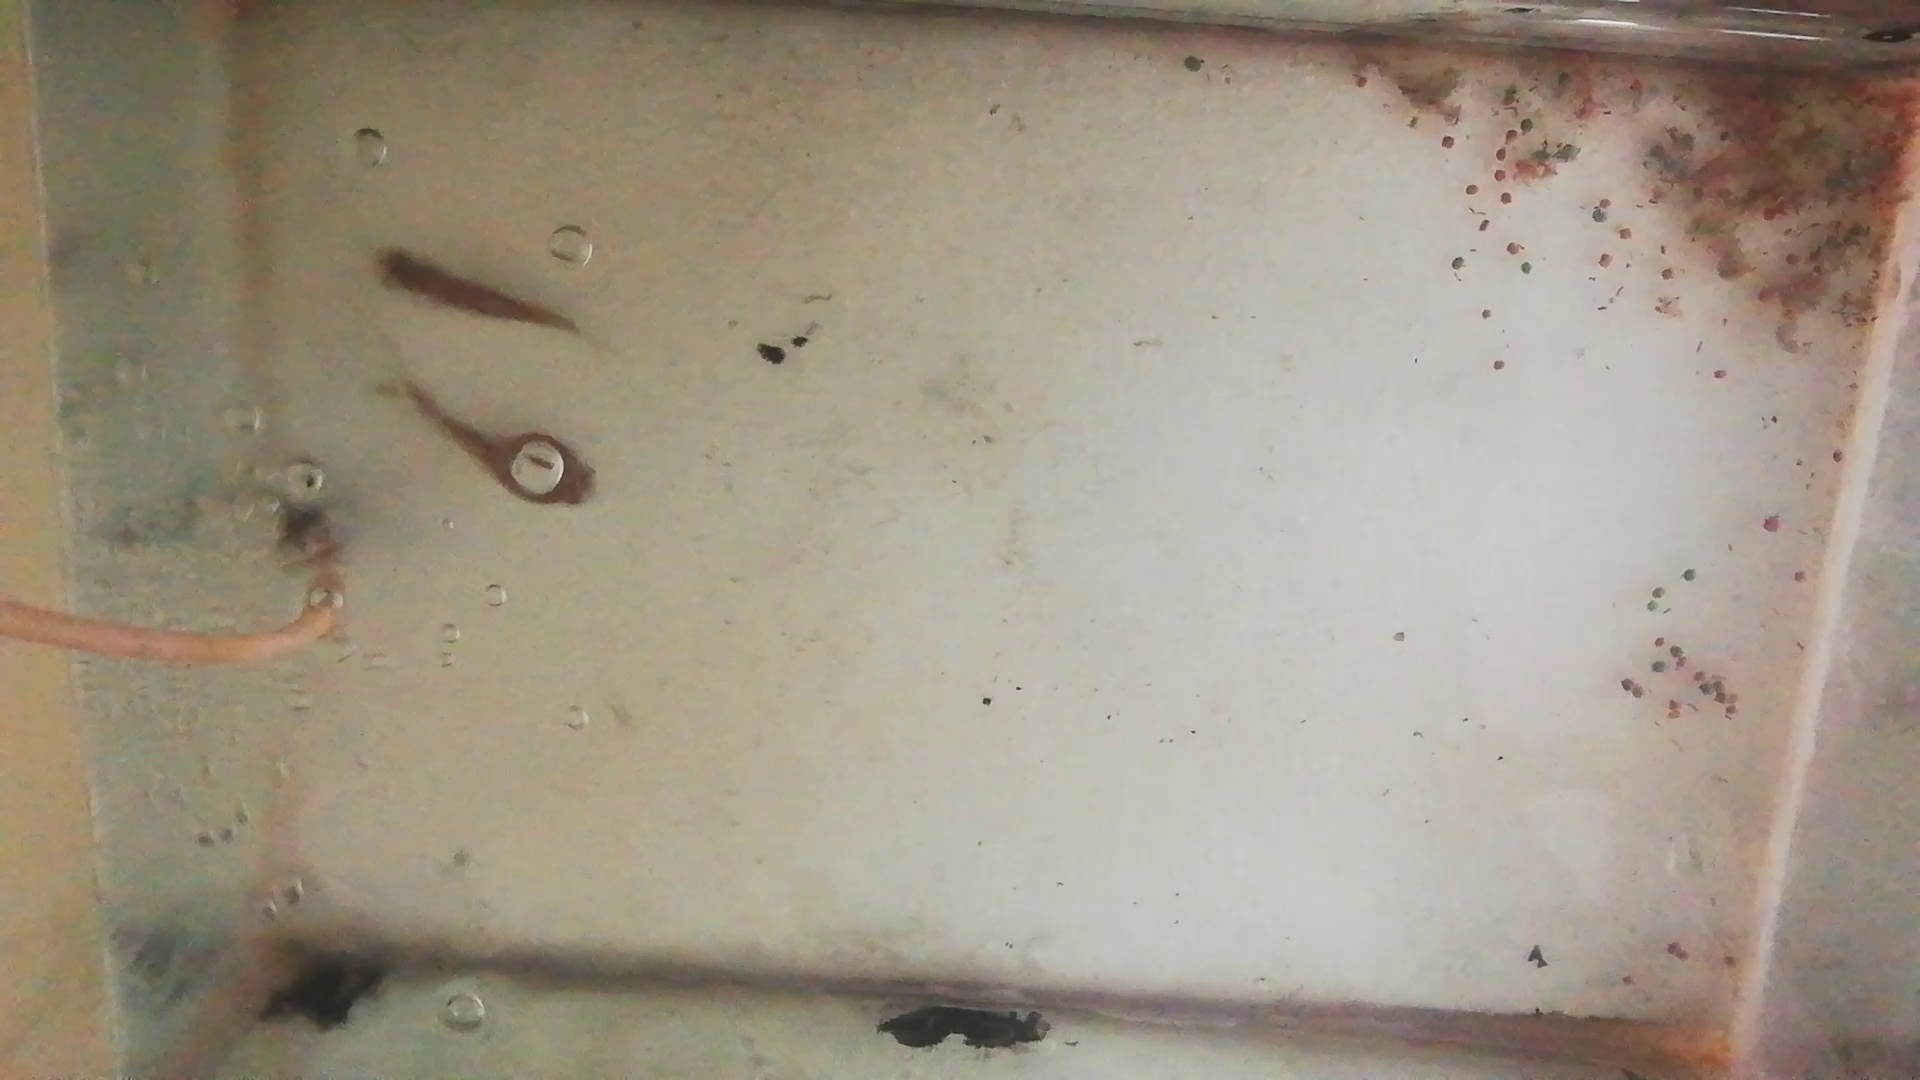fish: (398, 386, 593, 509), (375, 245, 578, 328)
